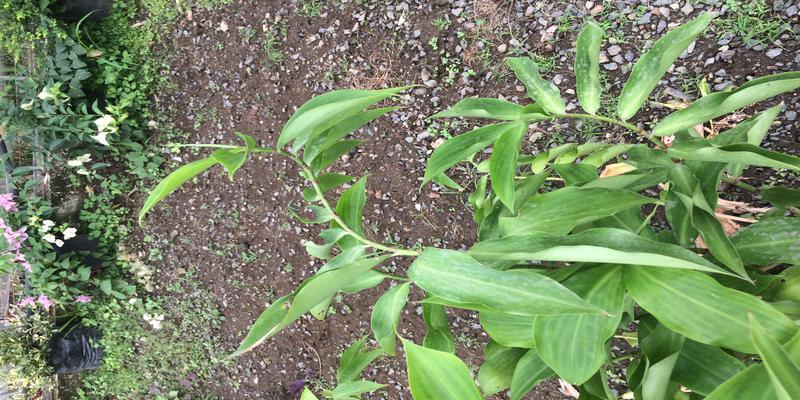Insulin: (178, 76, 800, 399)
